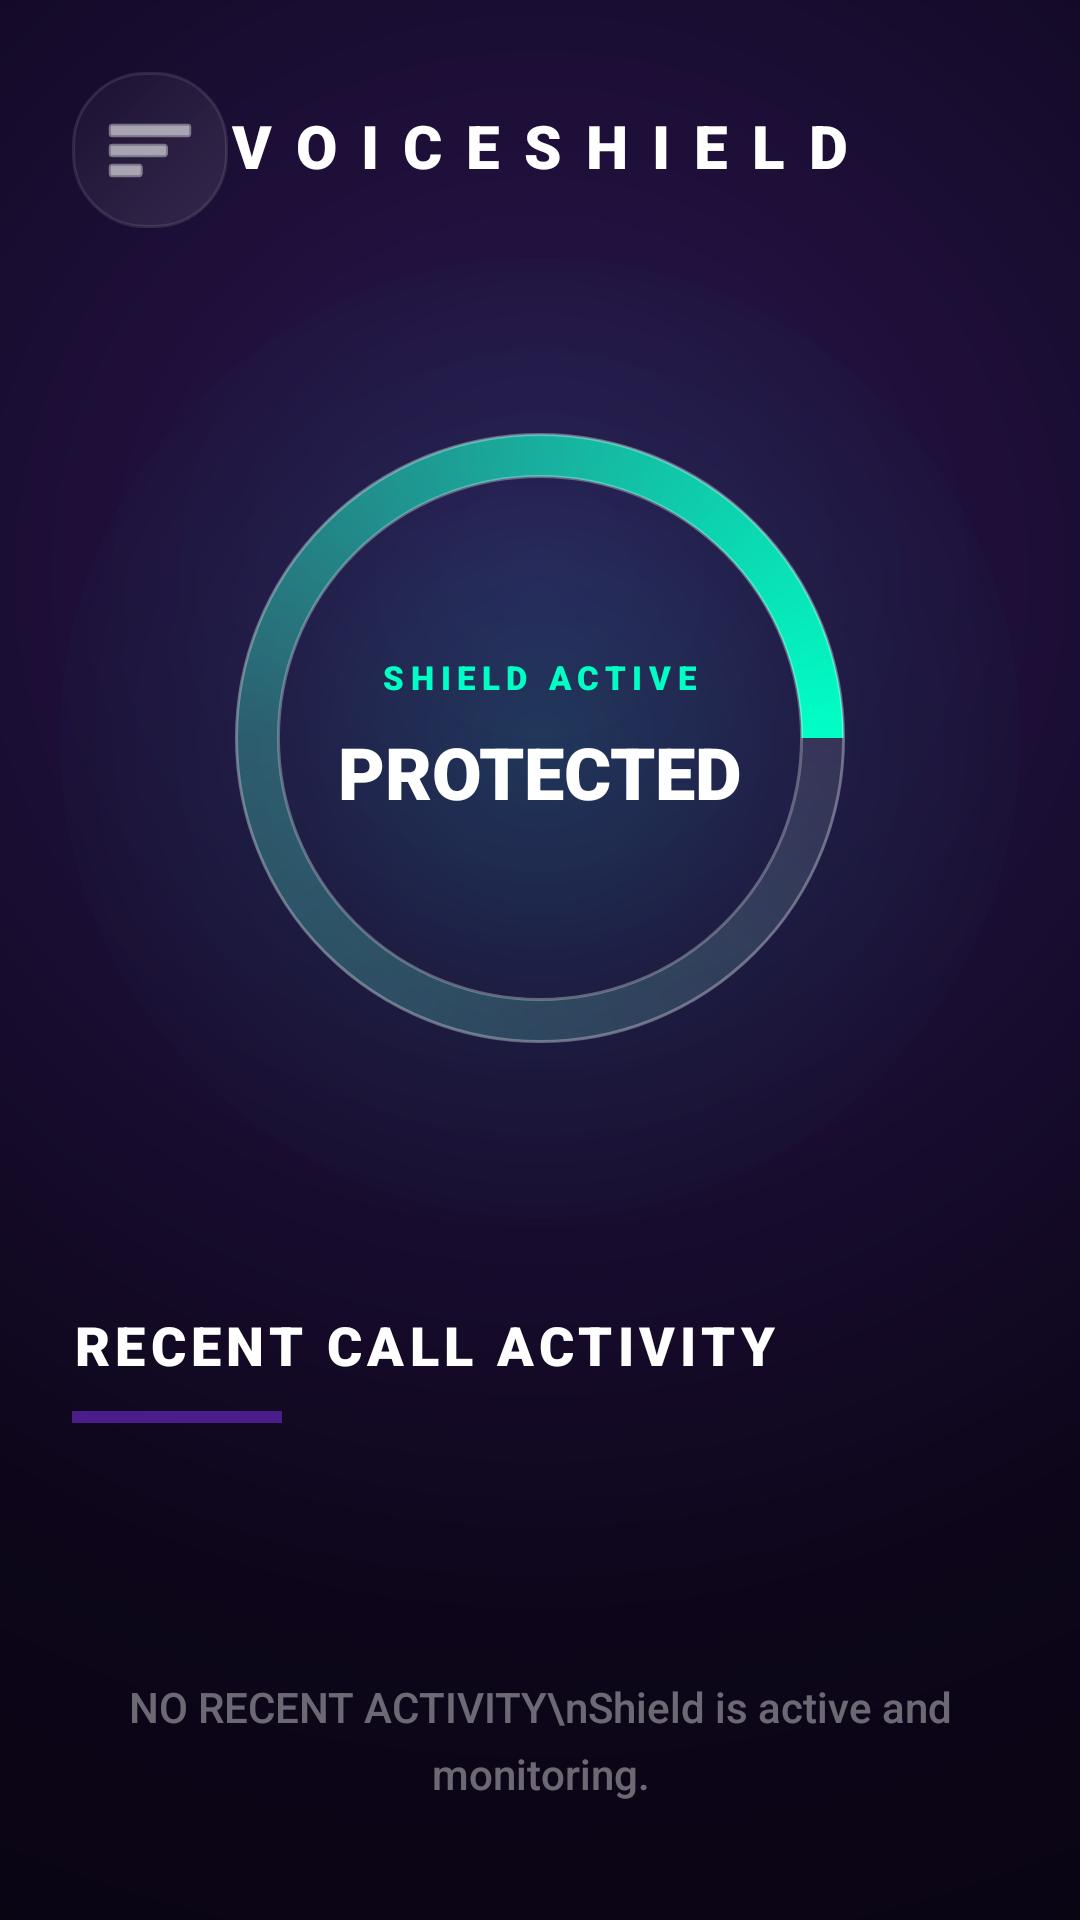

Screen size 1080x1920. Icon name, then its center in pixels as (x=x, y=y):
Menu: (x=150, y=150)
